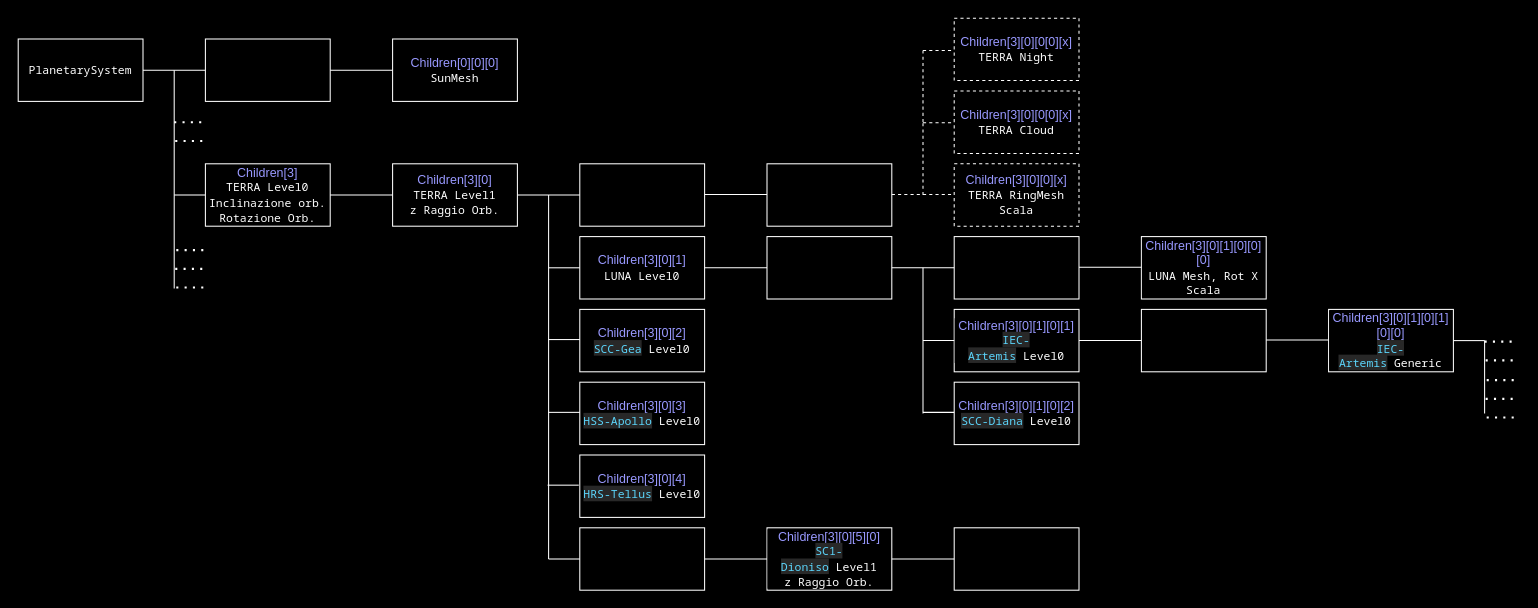
The diagram is 1538 pixels wide and 608 high, and some of its shapes have lost their labels. The shapes that lost their labels are listed below. From the top down, each one's centre as x and y in pixels, then its label:
At [267,69]: "Children[0] SunObject".
At [642,194]: "Children[3][0][0] TERRA Object".
At [829,194]: "Children[3][0][0][0] TERRA Mesh Rot X Scala".
At [829,267]: "Children[3][0][1][0] LUNA Level1 z Raggio Orb.".
At [1016,267]: "Children[3][0][1][0][0] LUNA Object".
At [1203,340]: "Children[3][0][1][0][1][0] IEC-Artemis Level1 z Raggio Orb.".
At [642,558]: "Children[3][0][5] SC1-Dioniso Level0".
At [1016,558]: "Children[3][0][5][0][0] SC1-Dioniso Generic".
